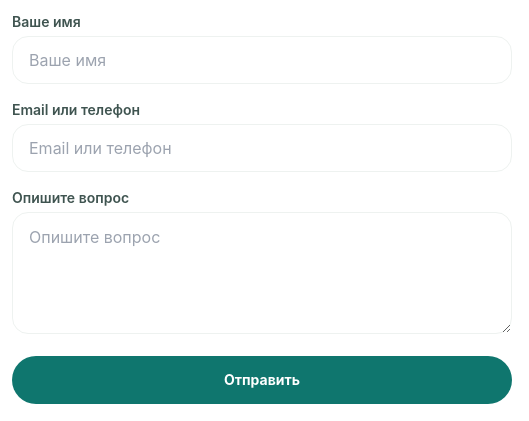
Test: SupportForm › успешная отправка показывает подтверждение
Type "Иван" into the field with placeholder "Ваше имя" at (262, 60), box top-left (12, 36), bottom-right (512, 84)
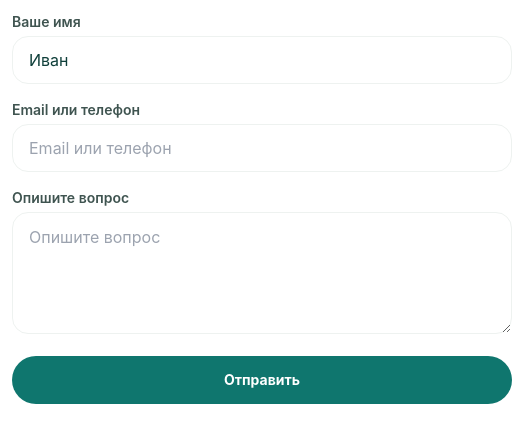
Type "ivan@example.com" into the field with placeholder "Email или телефон" at (262, 148), box top-left (12, 124), bottom-right (512, 172)
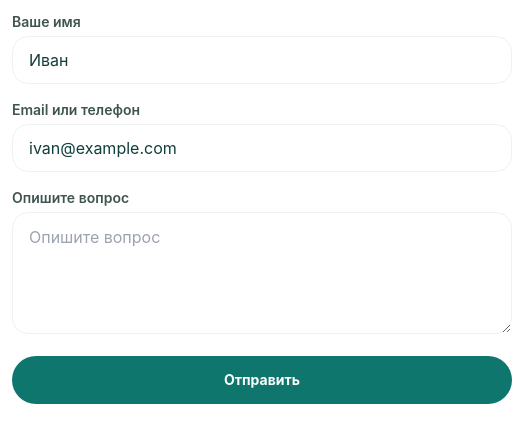
Type "Вопрос по оплате" into the text box with placeholder "Опишите вопрос" at (262, 273), box top-left (12, 212), bottom-right (512, 334)
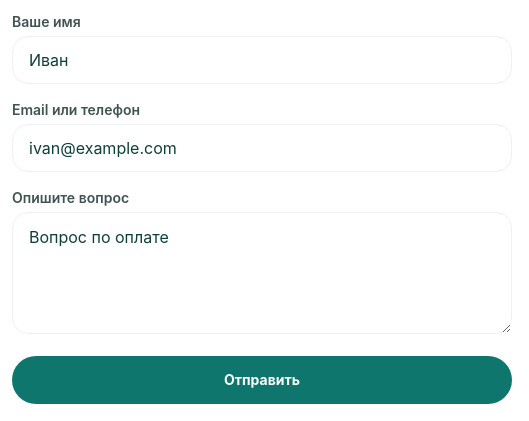
Click the button "Отправить" at (262, 380), box top-left (12, 356), bottom-right (512, 404)
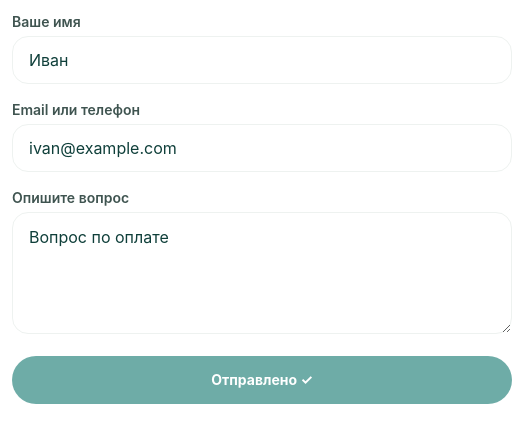
Expected: the button "Отправлено ✓" is shown, top-left (12, 356), bottom-right (512, 404)
